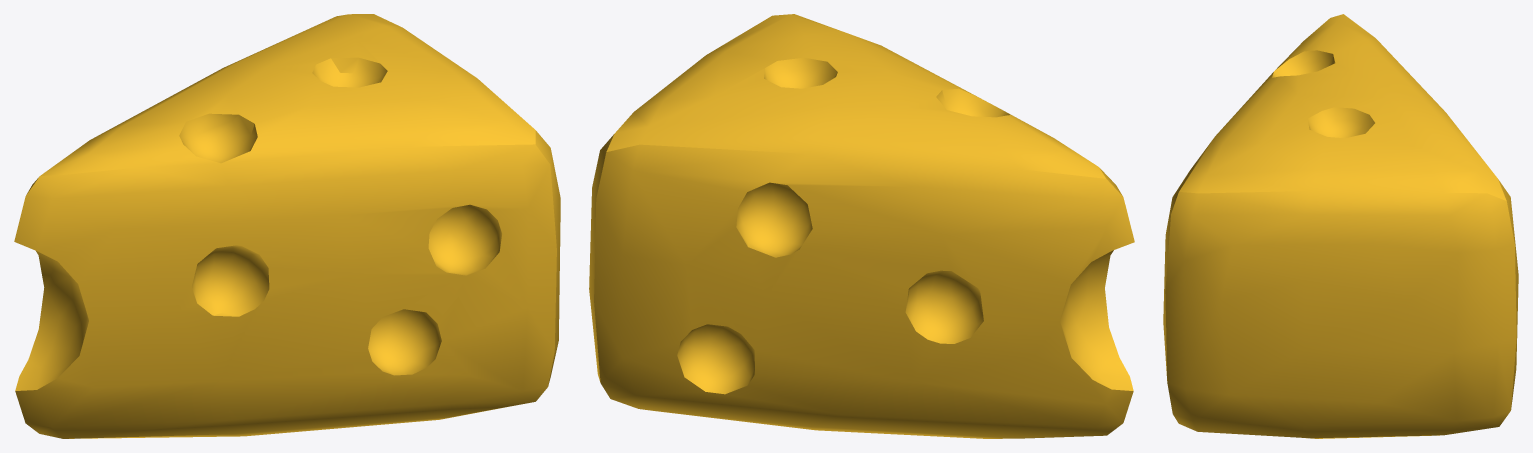
File: ser.gltf
3 views of the same model, side by side, from view 1: azimuth 30°, elevation 25°; view 2: azimuth 150°, elevation 25°; view 3: azimuth 270°, elevation 25° (orthographic). The views are drawn at different scales.
Parts seen in each view (by area): view 1: Plane; view 2: Plane; view 3: Plane.
Boxes of the visible parts, x1,y1,x2,y2 form: Plane: (14,14,560,438); Plane: (589,14,1134,438); Plane: (1163,14,1518,438).
Size of the model in its own units: 0.1433 by 0.0933 by 0.1038.
1 material, 1 textured.
